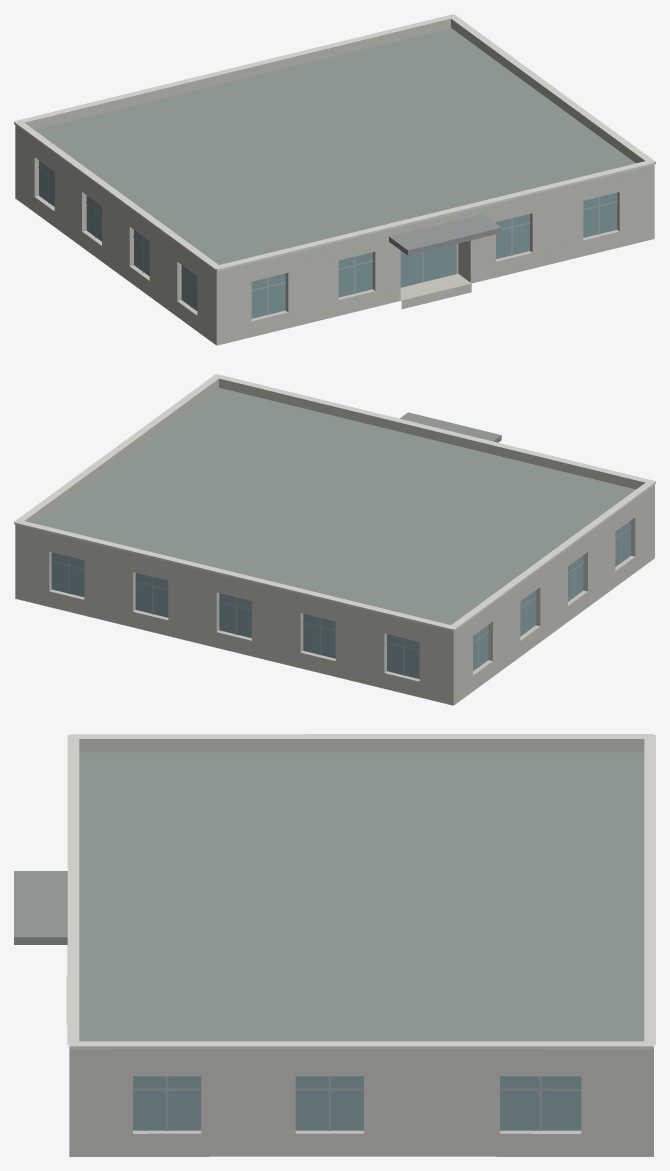
3 renders of one model, top to bottom at view 1: azimuth 30°, elevation 25°; view 2: azimuth 150°, elevation 25°; view 3: azimuth 270°, elevation 25°, orthographic. The views are drawn at different scales.
Parts seen in each view (by area): view 1: aux-468774590__roof, aux-468774590__wall, aux-468774590__parapet, aux-468774590__glass, aux-468774590__trim, aux-468774590__canopy, aux-468774590__entranceThreshold_0, aux-468774590__frame; view 2: aux-468774590__roof, aux-468774590__wall, aux-468774590__parapet, aux-468774590__trim, aux-468774590__glass, aux-468774590__frame, aux-468774590__canopy; view 3: aux-468774590__roof, aux-468774590__wall, aux-468774590__trim, aux-468774590__parapet, aux-468774590__glass, aux-468774590__canopy, aux-468774590__frame.
Part boxes in pixels (x1,y1,x2,y2): aux-468774590__roof: (15, 28, 654, 345); aux-468774590__wall: (15, 131, 654, 345); aux-468774590__parapet: (15, 18, 654, 277); aux-468774590__glass: (39, 160, 617, 318); aux-468774590__trim: (14, 14, 655, 271); aux-468774590__canopy: (389, 213, 501, 255); aux-468774590__entranceThreshold_0: (400, 273, 471, 309); aux-468774590__frame: (38, 166, 617, 315); aux-468774590__roof: (15, 387, 654, 705); aux-468774590__wall: (15, 491, 654, 705); aux-468774590__parapet: (15, 378, 654, 637); aux-468774590__trim: (14, 374, 655, 631); aux-468774590__glass: (51, 520, 630, 678); aux-468774590__frame: (51, 526, 631, 675); aux-468774590__canopy: (400, 412, 501, 442); aux-468774590__roof: (69, 752, 653, 1156); aux-468774590__wall: (69, 1058, 653, 1156); aux-468774590__trim: (67, 734, 655, 1049); aux-468774590__parapet: (69, 739, 653, 1058); aux-468774590__glass: (133, 1076, 581, 1130); aux-468774590__canopy: (14, 871, 67, 944); aux-468774590__frame: (133, 1076, 581, 1130).
Size of the model in its own units: 22.64 by 4.15 by 19.68.
